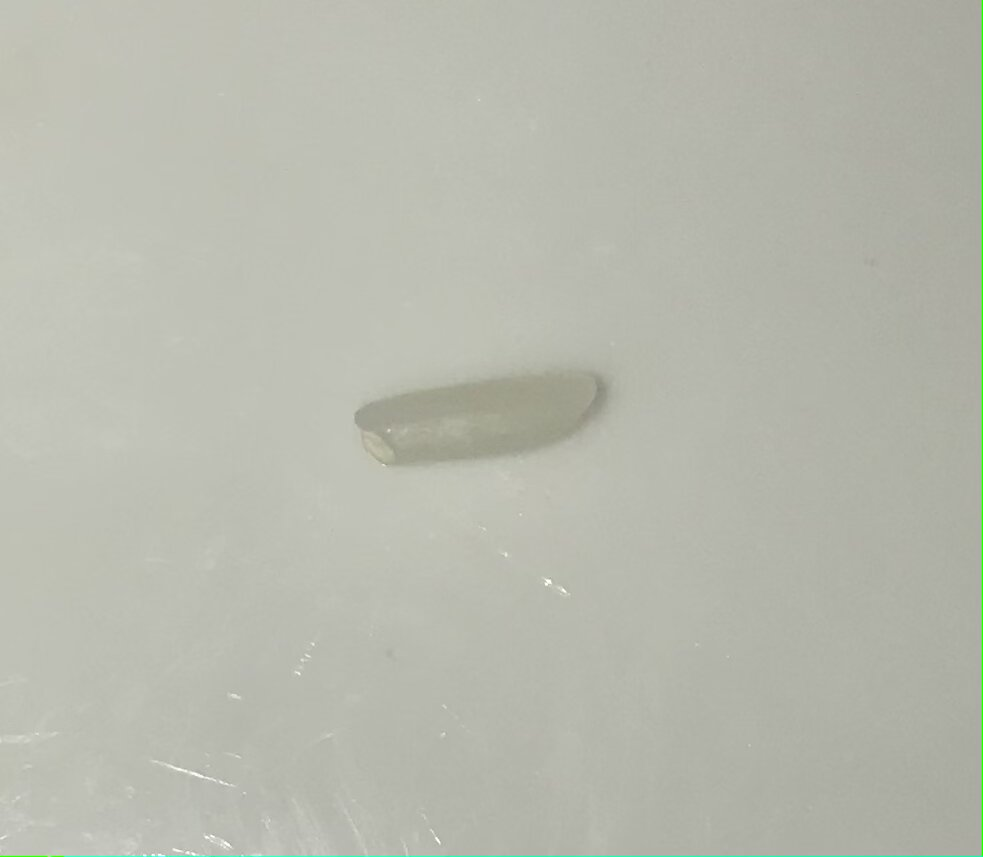Gao Lai Sua: (340, 365, 612, 486)
